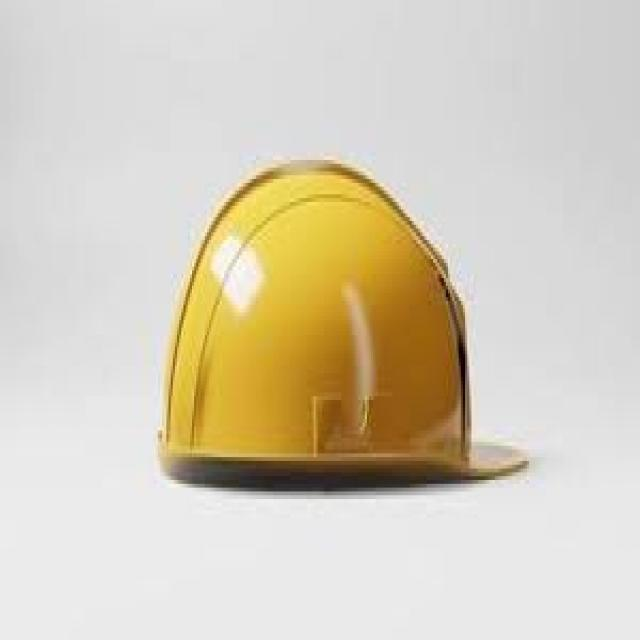Safety-Helmet: (145, 149, 536, 518)
